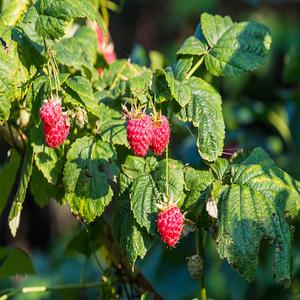raspb: (110, 105, 181, 161)
